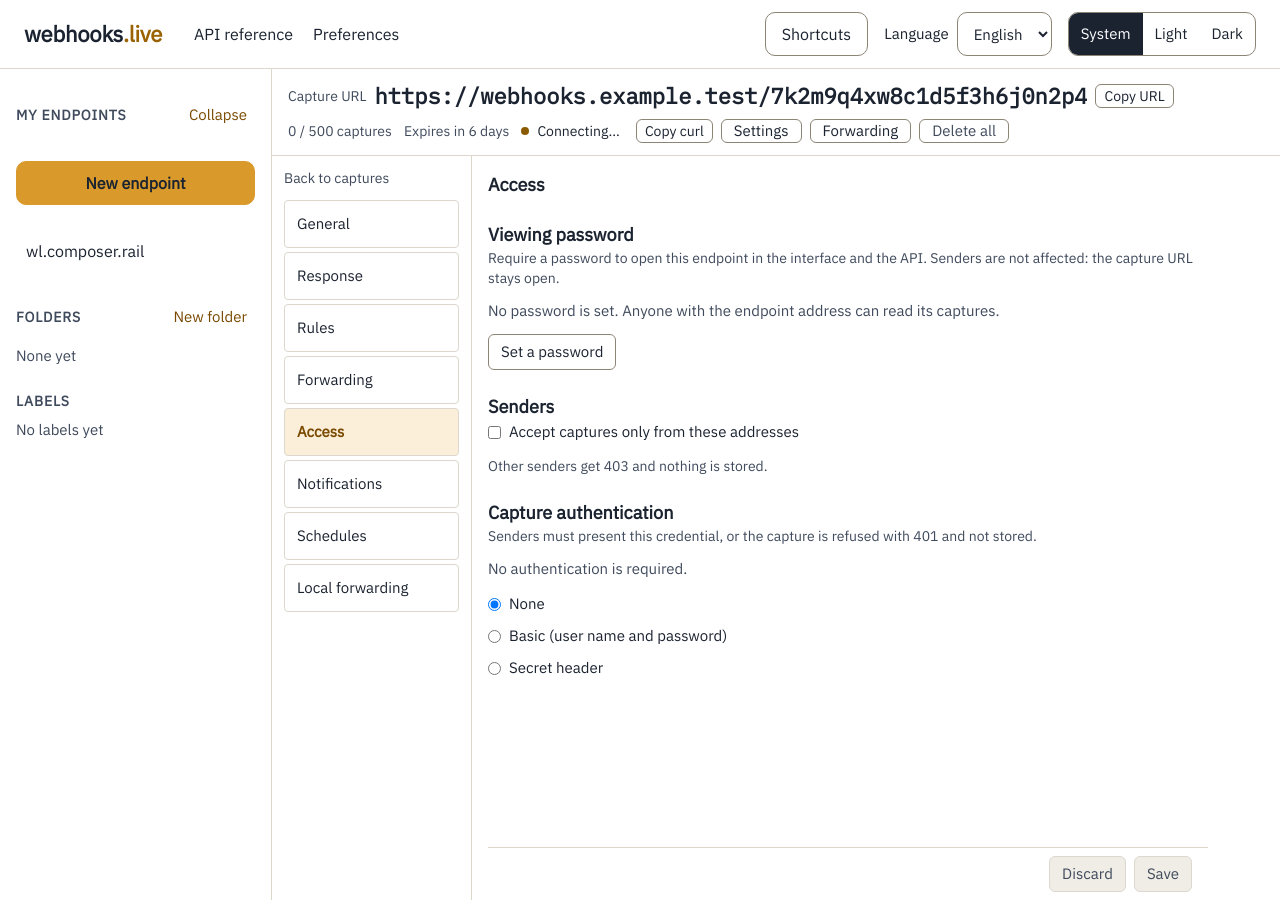
Scenario: capture authentication › generates a secret shown once, sends it, and never shows it again
Click the radio button labelled "Basic (user name and password)".
click(494, 636)  # box [488,630,501,642]
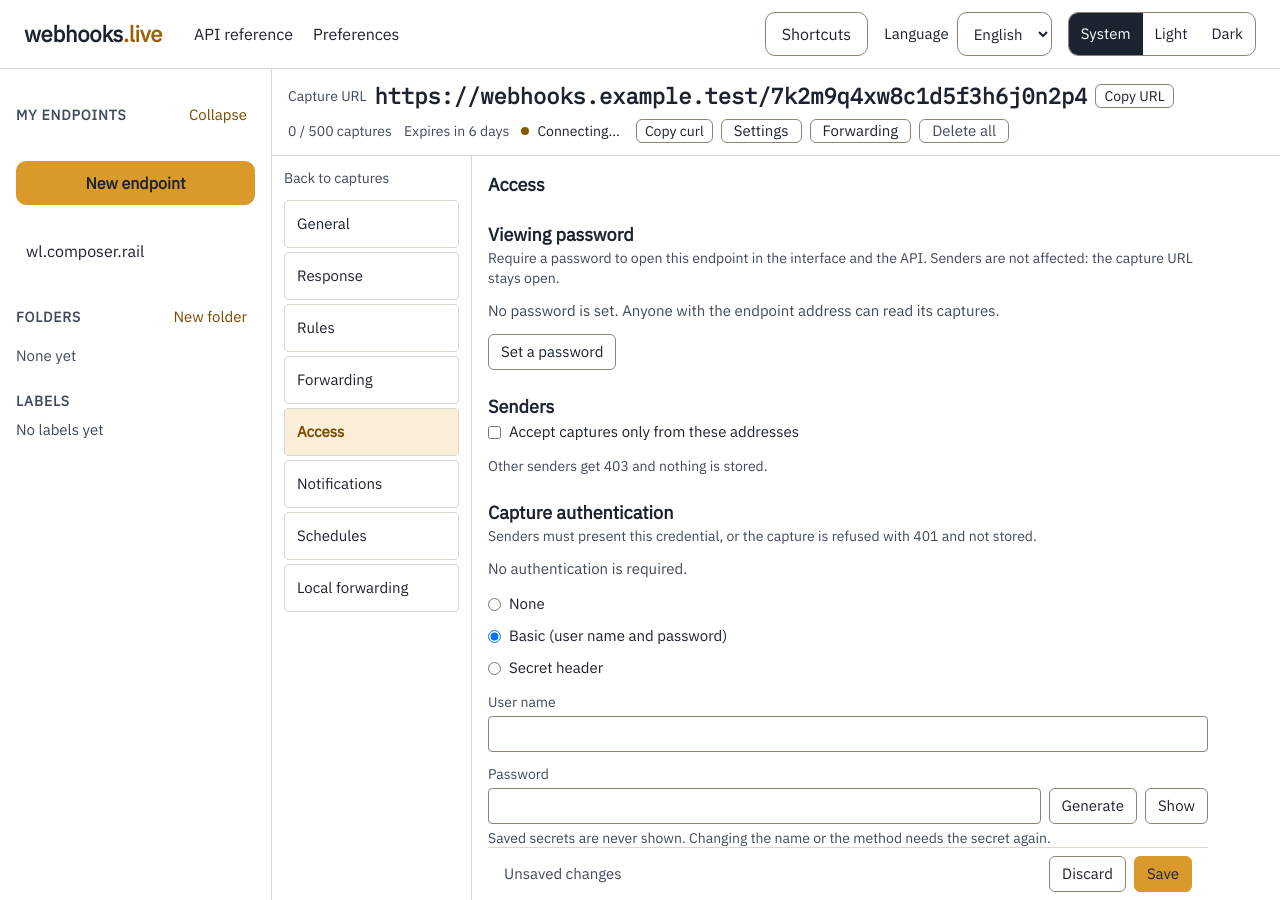
Type "sender" into the field labelled "User name".
click(848, 734); type("sender")  # box [488,716,1208,752]
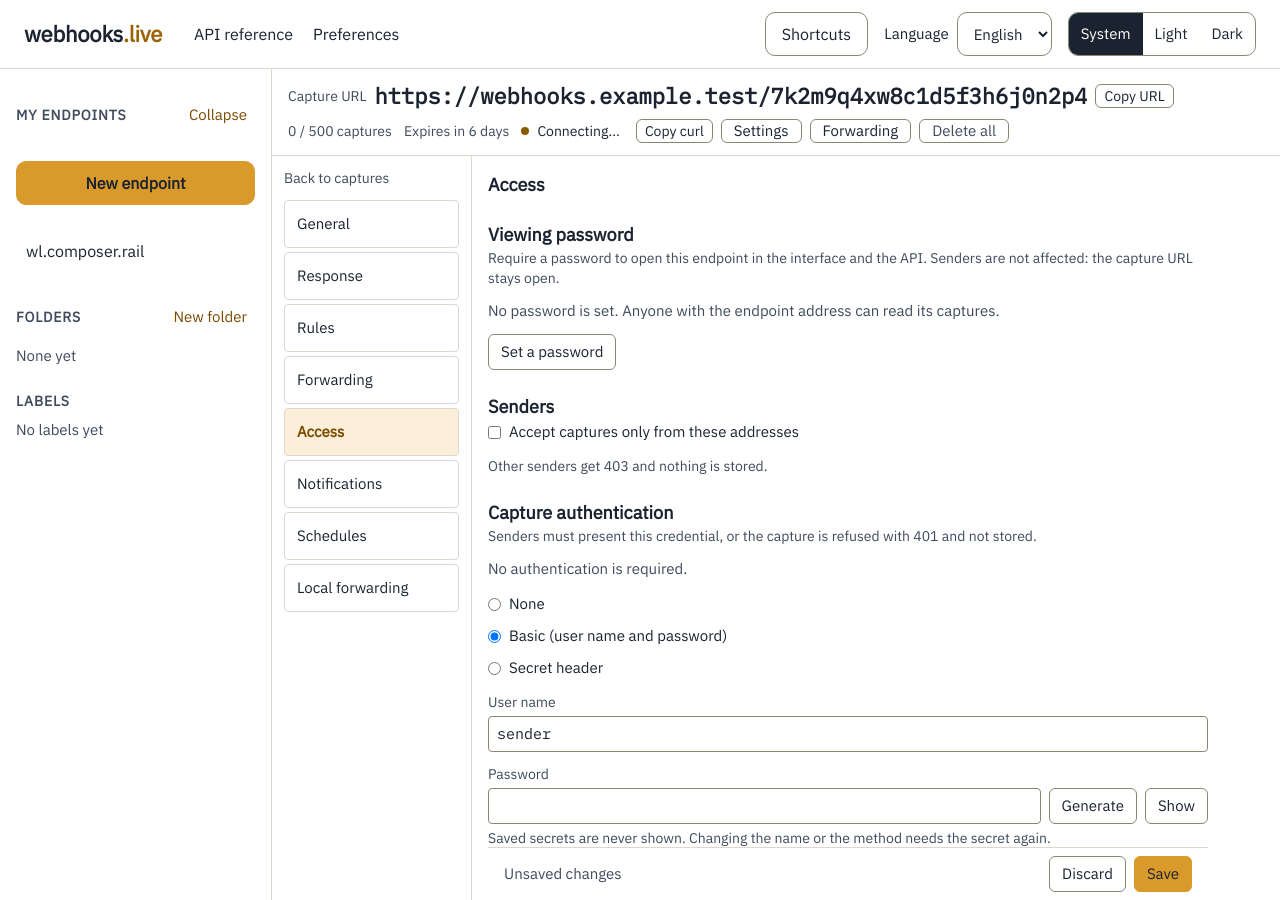
Click the button "Generate".
click(1093, 806)  # box [1049,788,1137,824]
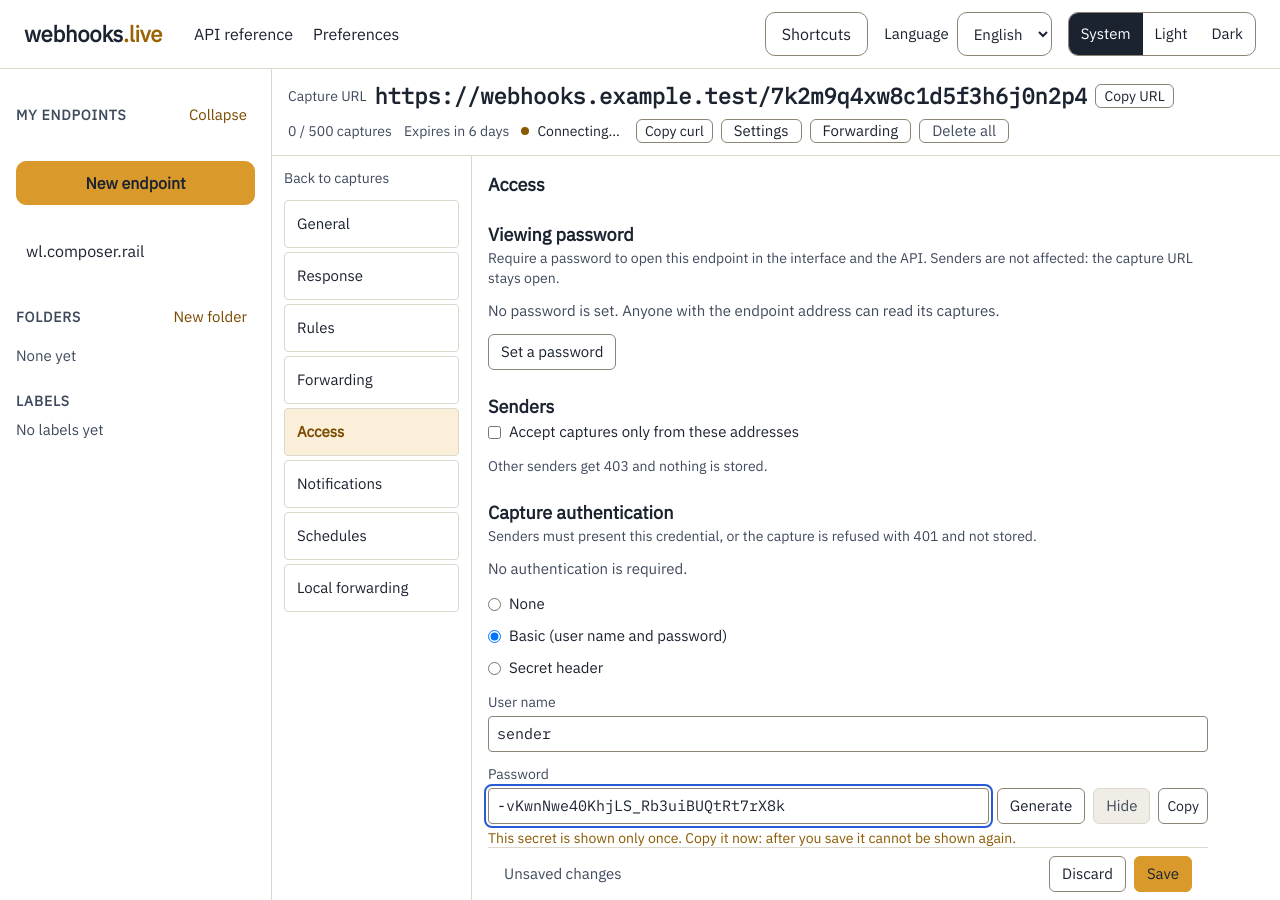
Check: the text "shown only once" is shown, box [488,829,1016,847]
Click the button "Save".
click(1163, 874)  # box [1134,856,1192,892]
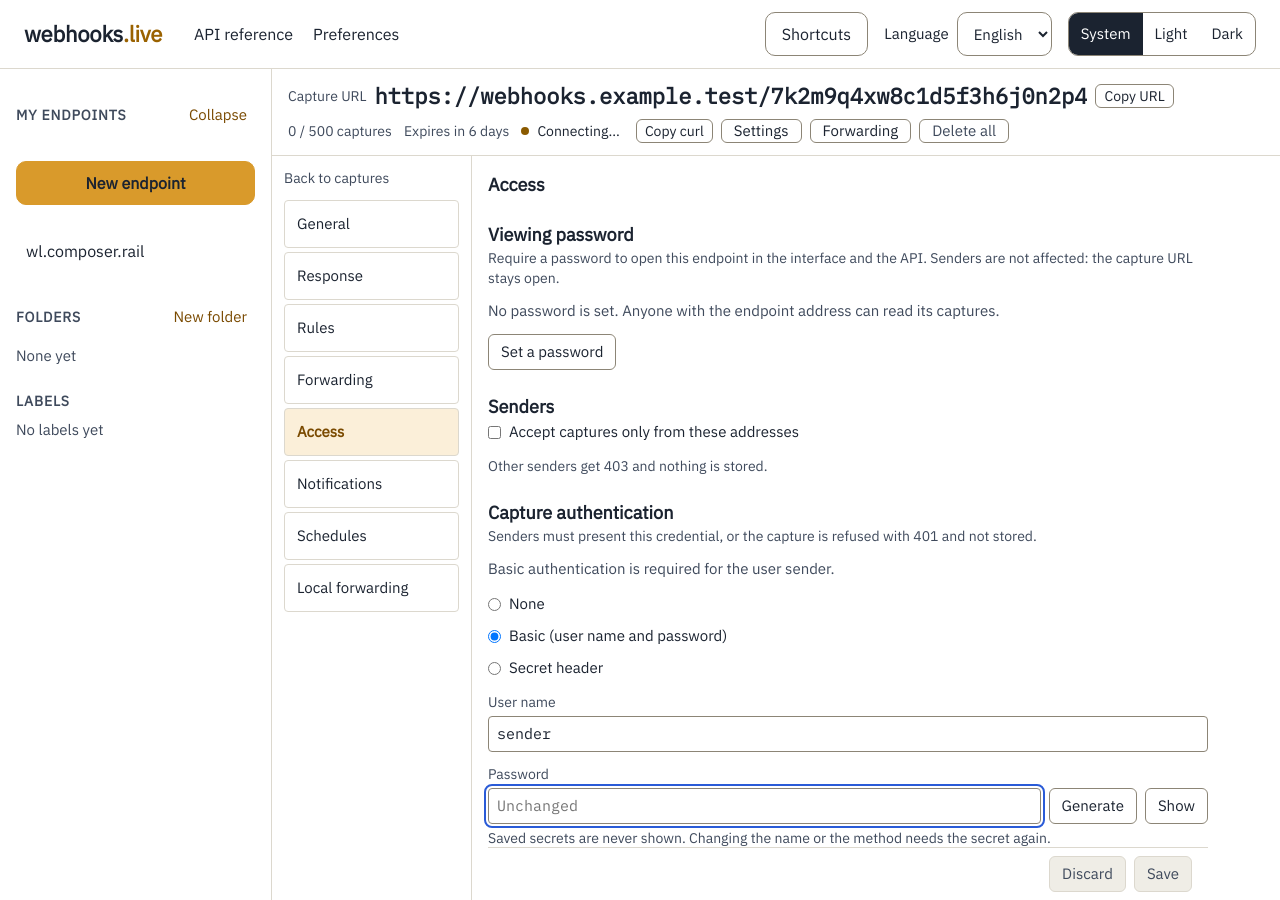
Check: the text "Basic authentication is required for the user sender." is shown, box [488,559,834,578]
Check: the password field labelled "Password" is empty, box [488,788,1041,824]
Check: the text "shown only once" is gone
